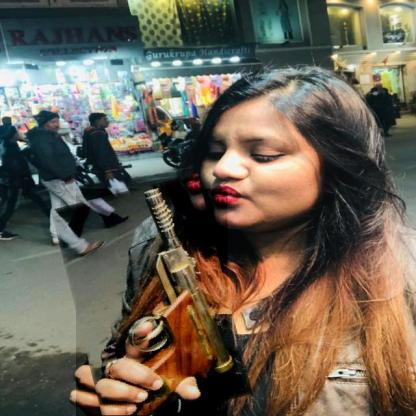handgun: (63, 180, 240, 416)
